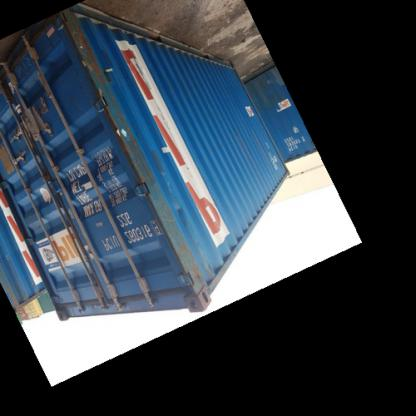Damage: (170, 233, 212, 313), (62, 24, 103, 98), (103, 106, 144, 174), (144, 180, 176, 234), (16, 46, 36, 90)
